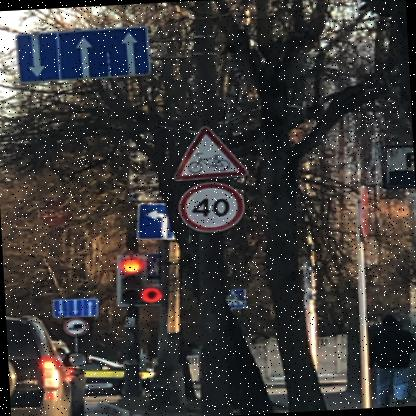crosswalk: (221, 287, 244, 307)
speedlimit: (175, 180, 244, 234)
trafficlight: (116, 252, 162, 306)
